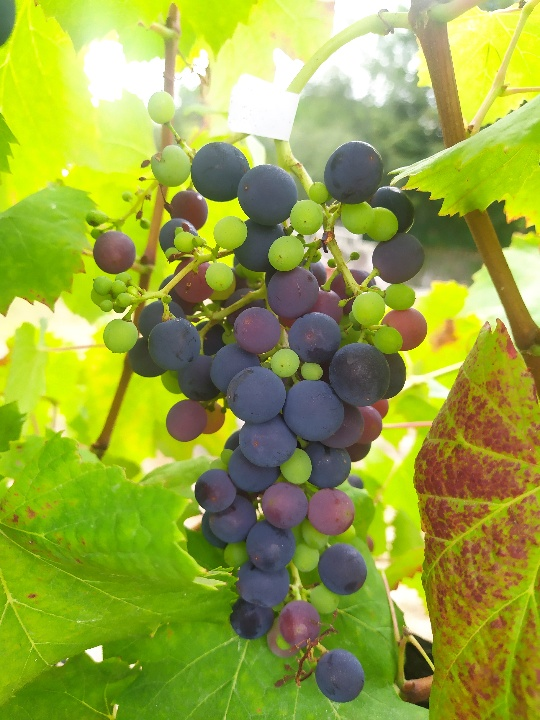grape: (89, 86, 430, 706)
